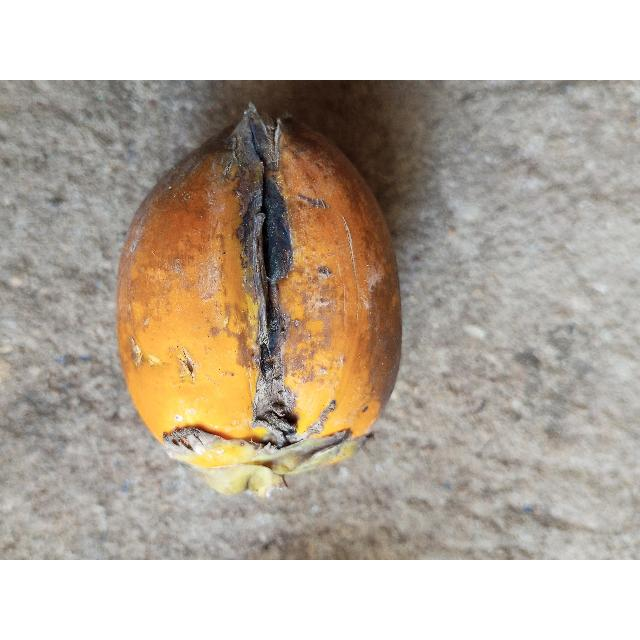damaged: (114, 103, 403, 498)
